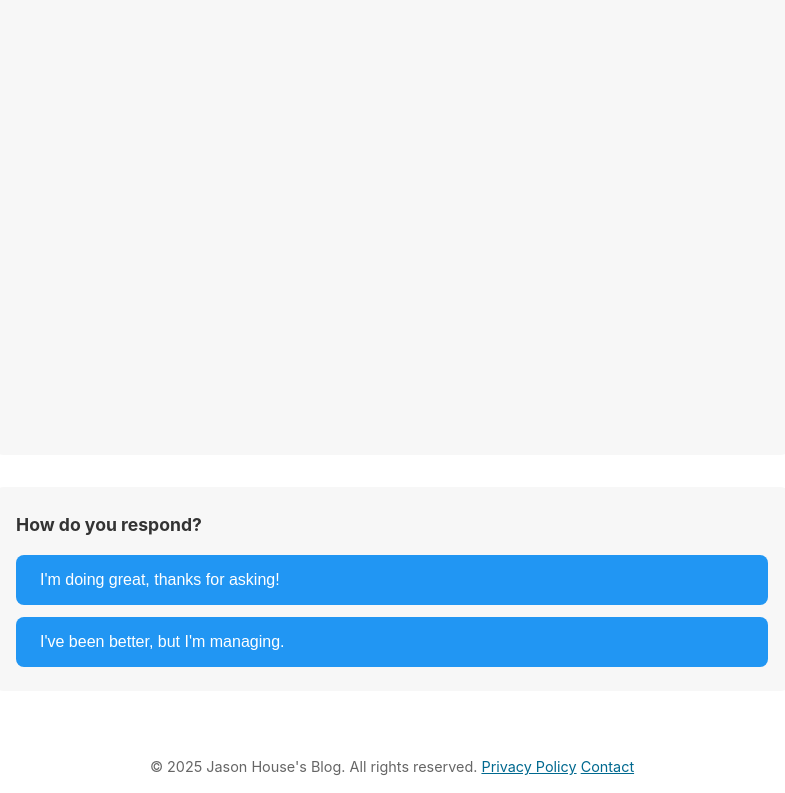
Scenario: Secret Page › handles option click and navigates to next node
The image size is (785, 793).
(page scrolled)
Click the button "I'm doing great, thanks for asking!".
click(160, 580)  # box top-left (16, 555), bottom-right (768, 605)
Wait 800 ms
(page scrolled)
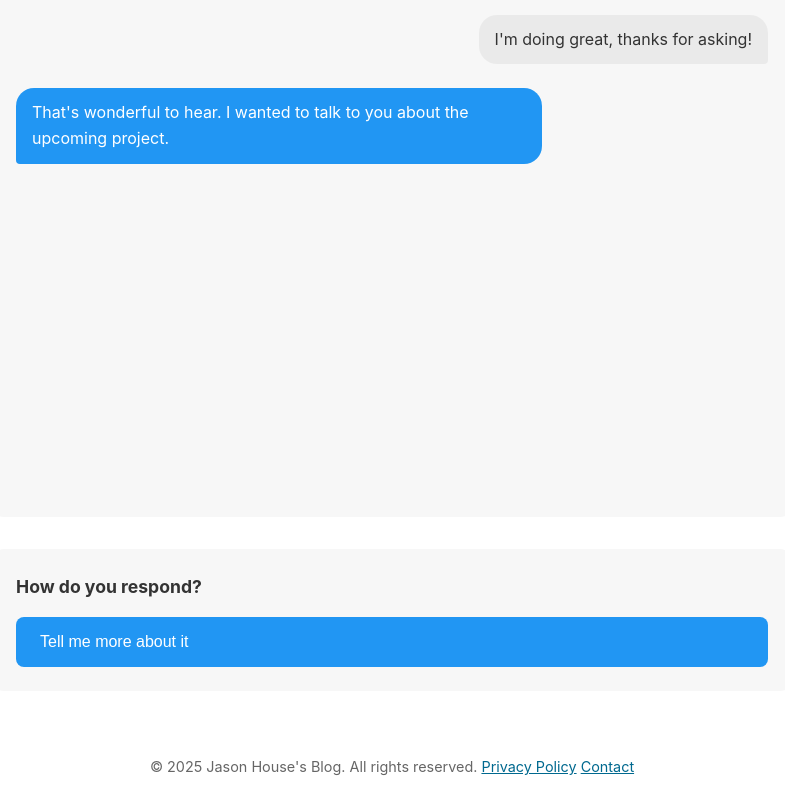
Expected: the text "That's wonderful to hear. I wanted to talk to you about the upcoming project." is shown, top-left (16, 88), bottom-right (542, 164)
